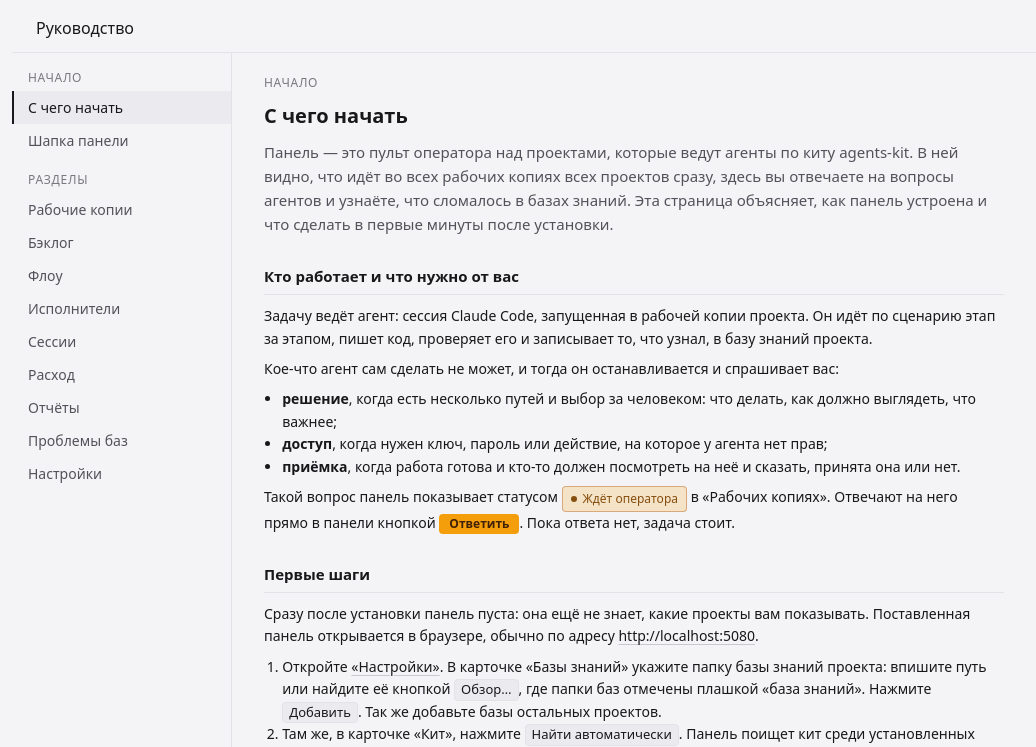
Test: названия из панели рисуются, как в панели: статус плашкой, кнопка плашкой
Click the button "Рабочие копии" at (122,210), box [12,193,231,226]
(page scrolled)
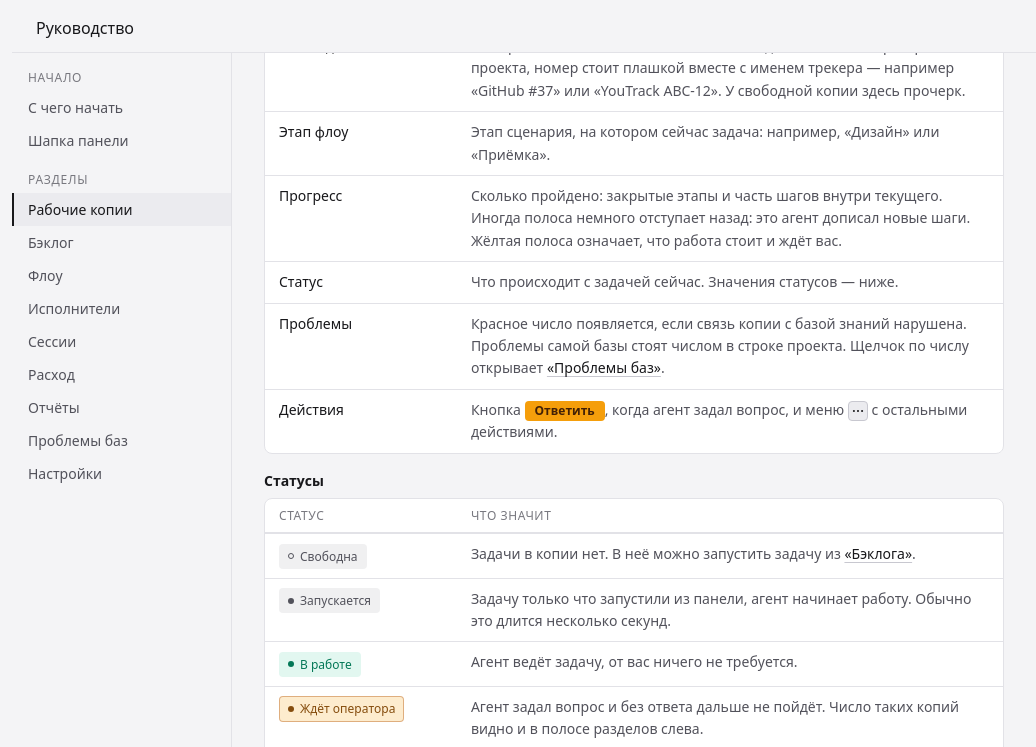
Now the picture named "меню" is shown, box [848,401,868,421]
